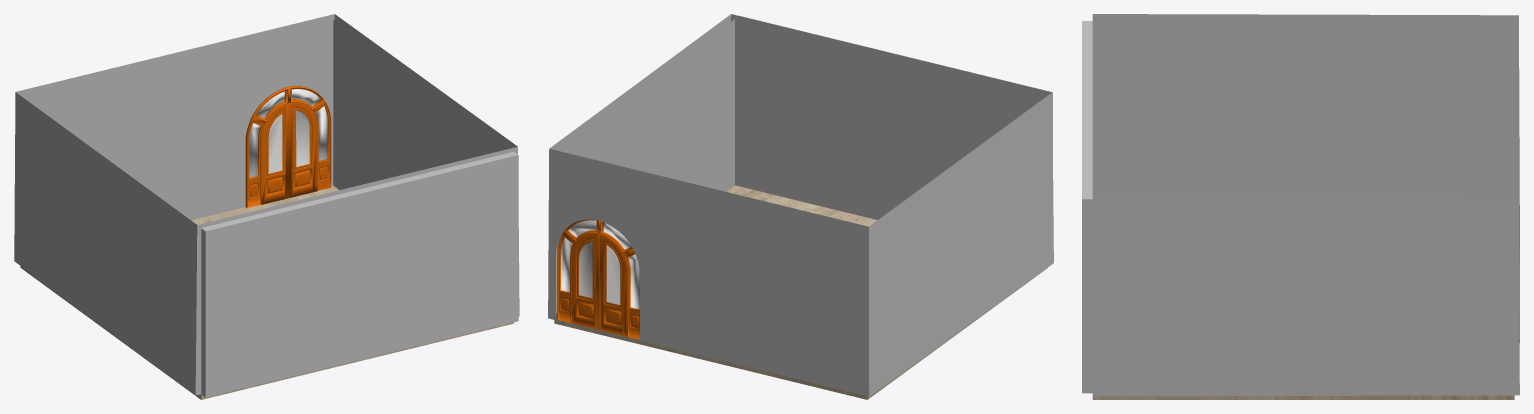
Rendered from roomupdate.fbx.
The picture shows the model from 3 angles, left to right: view 1: azimuth 30°, elevation 25°; view 2: azimuth 150°, elevation 25°; view 3: azimuth 270°, elevation 25°; orthographic projection. The views are drawn at different scales.
Visible parts, largest first — view 1: room, Cube.001, Frame, Frame.002, Frame.001, floor; view 2: room, Cube.001, Frame, floor, Frame.002, Frame.001; view 3: room, Cube.001, floor.
Part boxes in pixels (bbox=[...]): room: bbox=[14, 14, 519, 395]; Cube.001: bbox=[201, 152, 518, 397]; Frame: bbox=[245, 86, 331, 208]; Frame.002: bbox=[261, 103, 289, 204]; Frame.001: bbox=[289, 102, 317, 197]; floor: bbox=[20, 185, 513, 399]; room: bbox=[548, 14, 1053, 396]; Cube.001: bbox=[735, 15, 1052, 219]; Frame: bbox=[557, 219, 639, 339]; floor: bbox=[554, 185, 1047, 399]; Frame.002: bbox=[599, 234, 627, 336]; Frame.001: bbox=[571, 233, 599, 329]; room: bbox=[1092, 14, 1519, 396]; Cube.001: bbox=[1082, 21, 1092, 393]; floor: bbox=[1092, 395, 1514, 399].
Bounding box in the file's own units: 2937 × 1524 × 2944.
